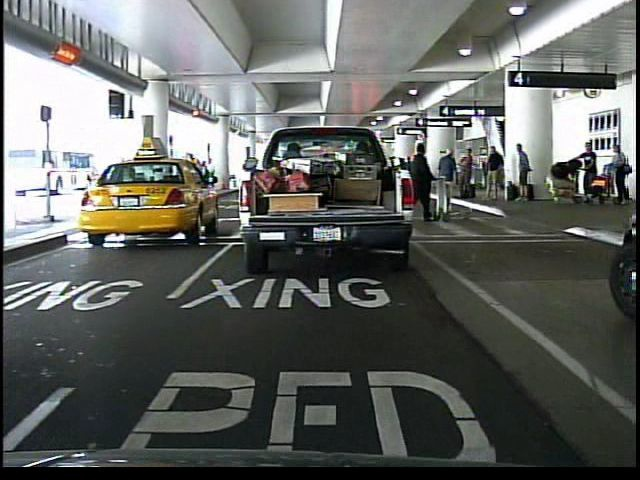person: (404, 140, 437, 223), (606, 142, 633, 212), (435, 146, 461, 216), (581, 141, 599, 182)
